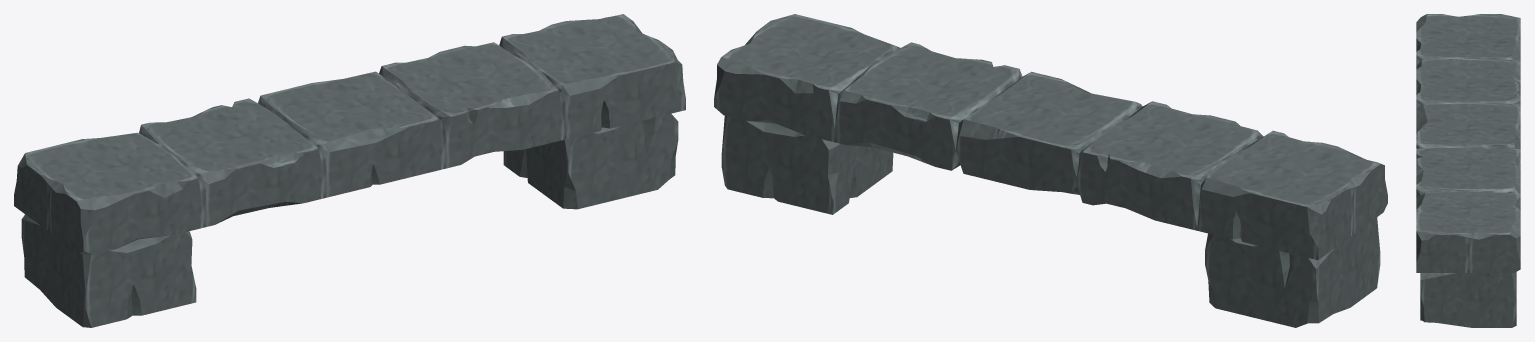
The model's file is Stone Bridge W5_HD.fbx.
The picture shows the model from 3 angles, left to right: view 1: azimuth 30°, elevation 25°; view 2: azimuth 150°, elevation 25°; view 3: azimuth 270°, elevation 25°; orthographic projection. The views are drawn at different scales.
Parts seen in each view (by area): view 1: StoneBridge_W5; view 2: StoneBridge_W5; view 3: StoneBridge_W5.
Boxes of the visible parts, box(x1,y1,x2,y2) form: StoneBridge_W5: box(14, 14, 685, 327); StoneBridge_W5: box(714, 14, 1387, 327); StoneBridge_W5: box(1416, 14, 1520, 327).
Bounding box in the file's own units: 5 × 1 × 1.
